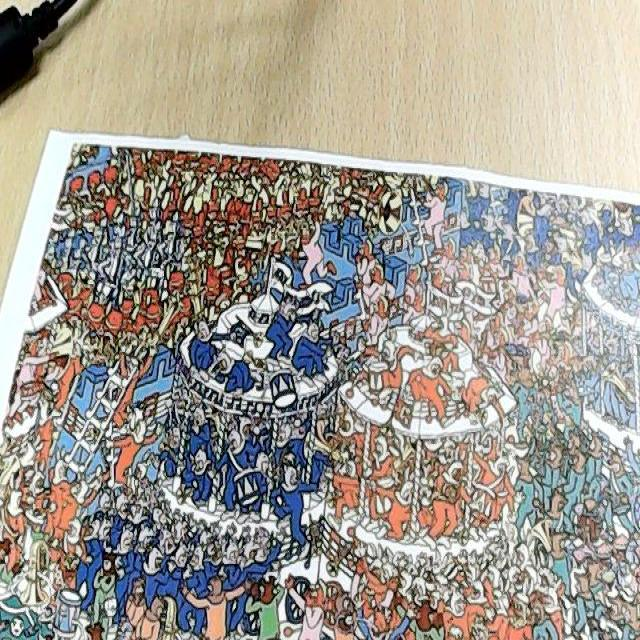waldo: (572, 333, 584, 358)
